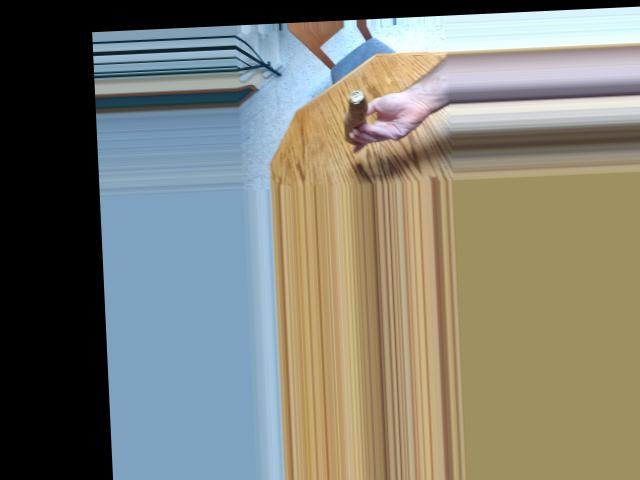sweet_potato: (341, 96, 362, 146)
